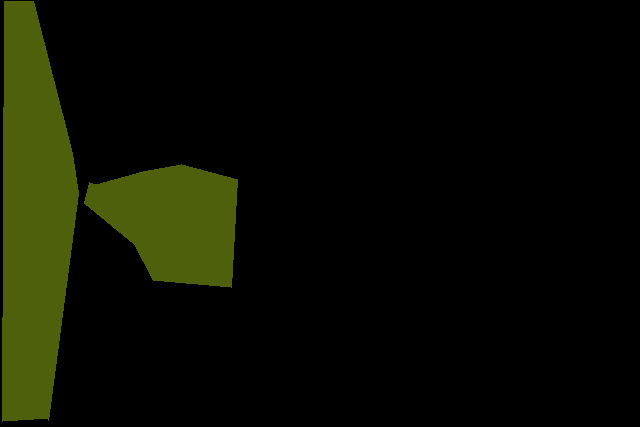Train: (2, 1, 78, 421), (84, 164, 237, 288)
